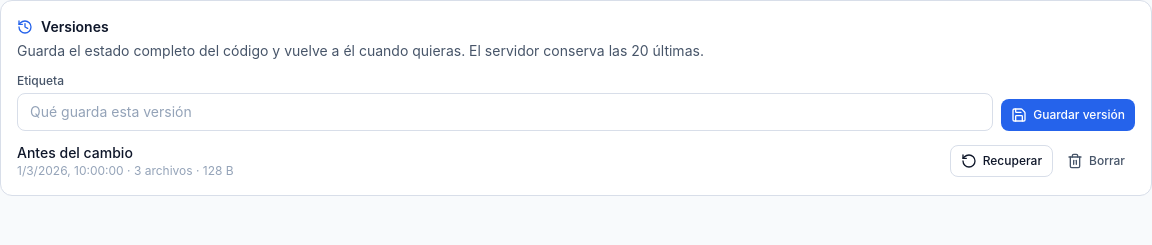
ProjectVersions › muestra el mensaje del servidor cuando algo falla
Expected: the text "Antes del cambio" is shown, top-left (17, 144), bottom-right (133, 161)
Click the button "Guardar versión" at (1068, 115), box top-left (1001, 99), bottom-right (1135, 131)
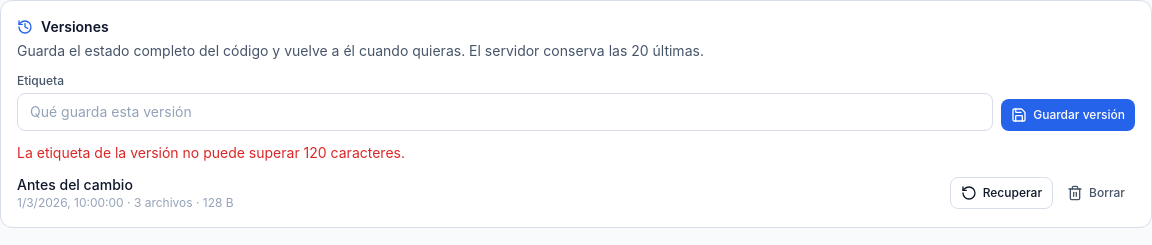
Result: the message shows "no puede superar 120" at top-left (17, 144), bottom-right (405, 161)
